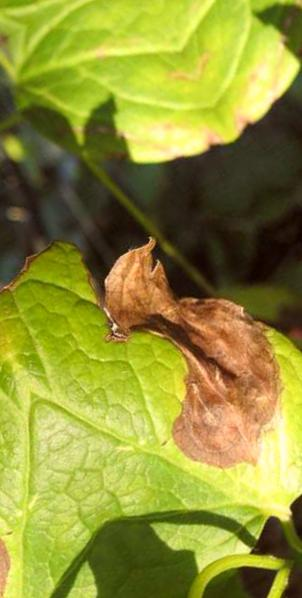Tomato leaf bacterial spot: (0, 141, 302, 598)
